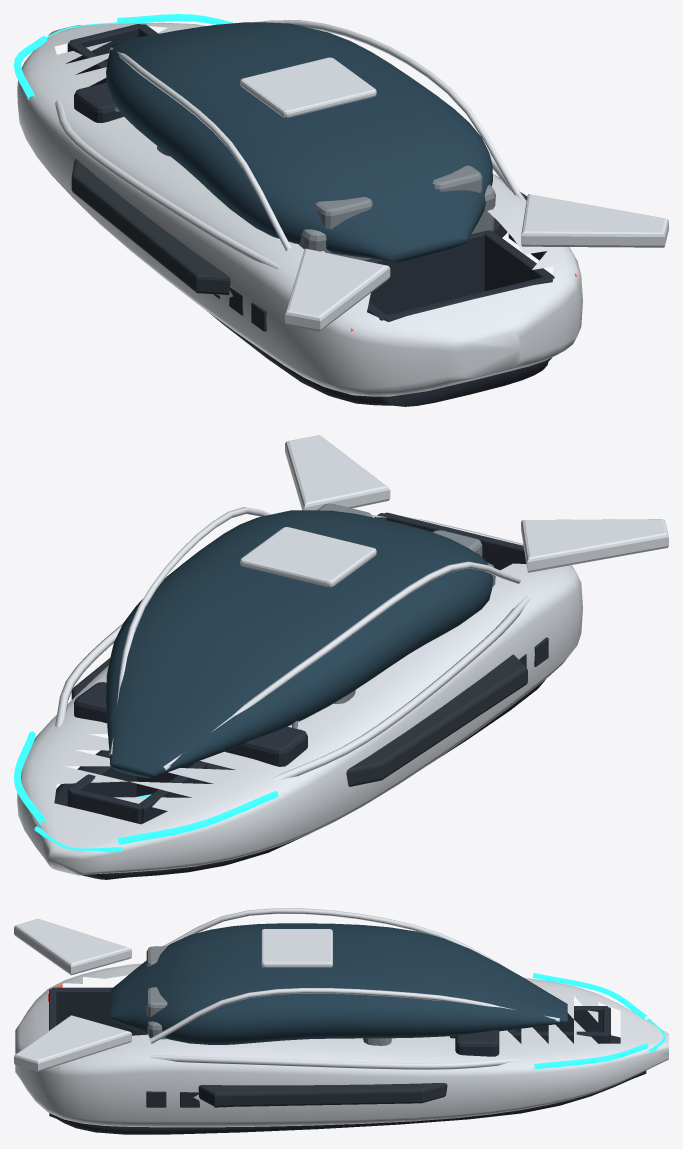
File: aerodynex_x12_body.gltf
The picture shows the model from 3 angles, top to bottom: view 1: azimuth 30°, elevation 25°; view 2: azimuth 150°, elevation 25°; view 3: azimuth 270°, elevation 25°; orthographic projection. The views are drawn at different scales.
Parts seen in each view (by area): view 1: aerodynex_x12_body; view 2: aerodynex_x12_body; view 3: aerodynex_x12_body.
Boxes of the visible parts, x1,y1,x2,y2 form: aerodynex_x12_body: (14,14,668,406); aerodynex_x12_body: (14,435,668,879); aerodynex_x12_body: (14,908,668,1134).
Bounding box in the file's own units: 3.02 × 1.49 × 5.81.
